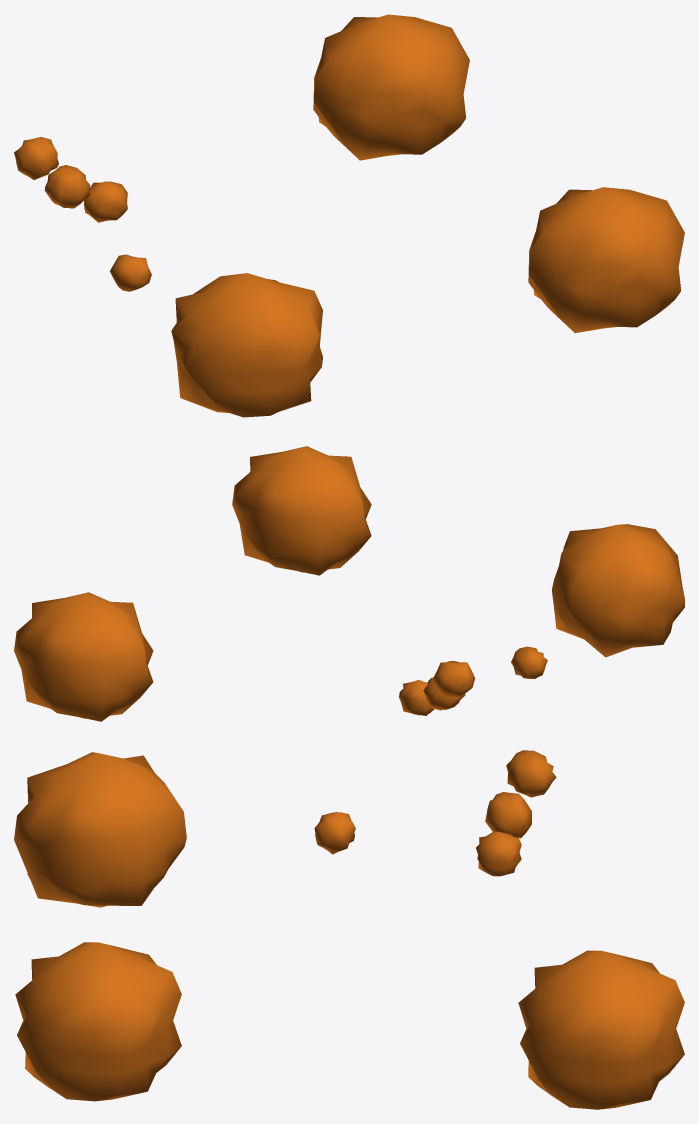
File: Vulcanubolas.fbx
3 views of the same model, one above another, from view 1: azimuth 30°, elevation 25°; view 2: azimuth 150°, elevation 25°; view 3: azimuth 270°, elevation 25° (orthographic). The views are drawn at different scales.
Parts seen in each view (by area): view 1: Cube.011, Cube.002; view 2: Cube.011, Cube.002; view 3: Cube.011, Cube.002.
Boxes of the visible parts, bbox=[...] form: Cube.011: bbox=[171, 14, 684, 417]; Cube.002: bbox=[14, 136, 151, 291]; Cube.011: bbox=[14, 446, 684, 721]; Cube.002: bbox=[399, 646, 547, 715]; Cube.011: bbox=[14, 752, 684, 1109]; Cube.002: bbox=[314, 750, 556, 876].
Size of the model in its own units: 9679 by 2578 by 10169.
